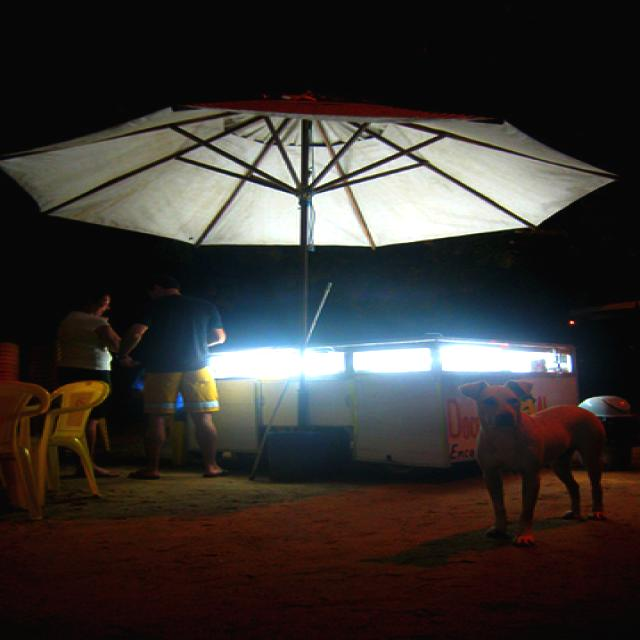Dog: (382, 330, 640, 540)
